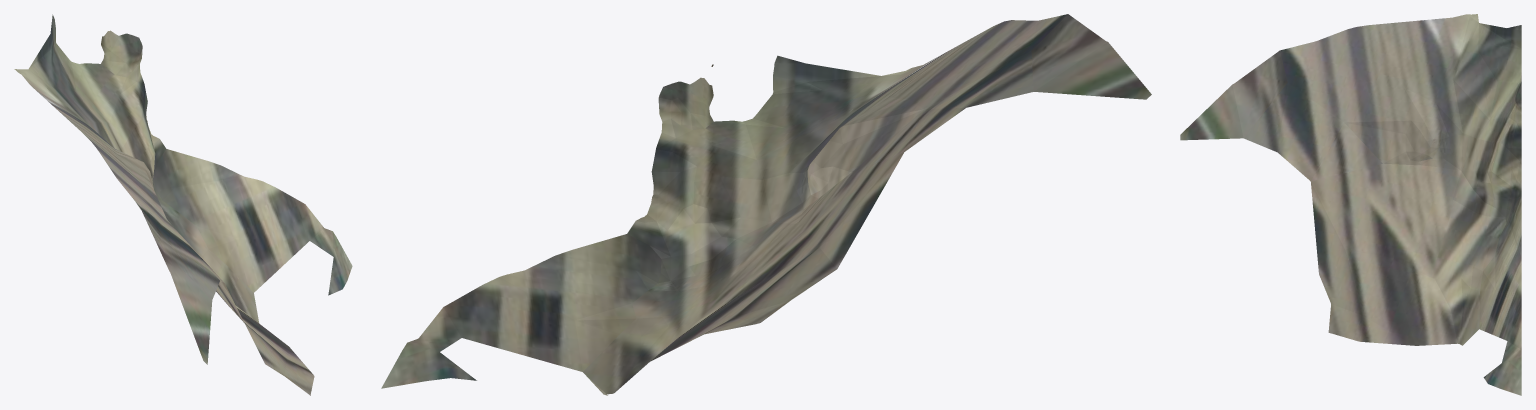
The model's file is Tile_+003_+004_L21_0001400.glb.
The picture shows the model from 3 angles, left to right: view 1: azimuth 30°, elevation 25°; view 2: azimuth 150°, elevation 25°; view 3: azimuth 270°, elevation 25°; orthographic projection. The views are drawn at different scales.
Visible parts, largest first — view 1: rtc; view 2: rtc; view 3: rtc.
Part boxes in pixels (<box>): rtc: <box>14,14,352,395</box>; rtc: <box>381,14,1151,395</box>; rtc: <box>1180,14,1521,395</box>.
Size of the model in its own units: 24.96 by 21.18 by 25.63.
Materials: 1 (1 with a texture image).
